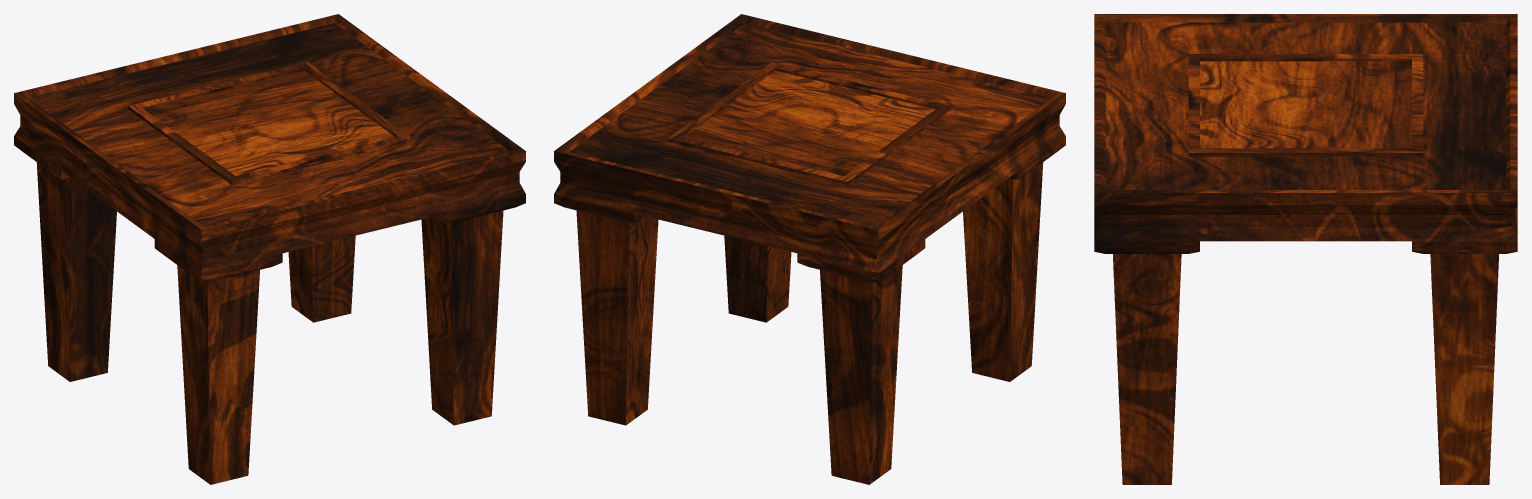
The model's file is SideTable.fbx.
The picture shows the model from 3 angles, left to right: view 1: azimuth 30°, elevation 25°; view 2: azimuth 150°, elevation 25°; view 3: azimuth 270°, elevation 25°; orthographic projection. The views are drawn at different scales.
Visible parts, largest first — view 1: Cube; view 2: Cube; view 3: Cube.
Part boxes in pixels (x1,y1,x2,y2): Cube: [14, 14, 525, 484]; Cube: [554, 14, 1065, 484]; Cube: [1094, 14, 1517, 484].
Bounding box in the file's own units: 53.64 × 42.5 × 53.64.
